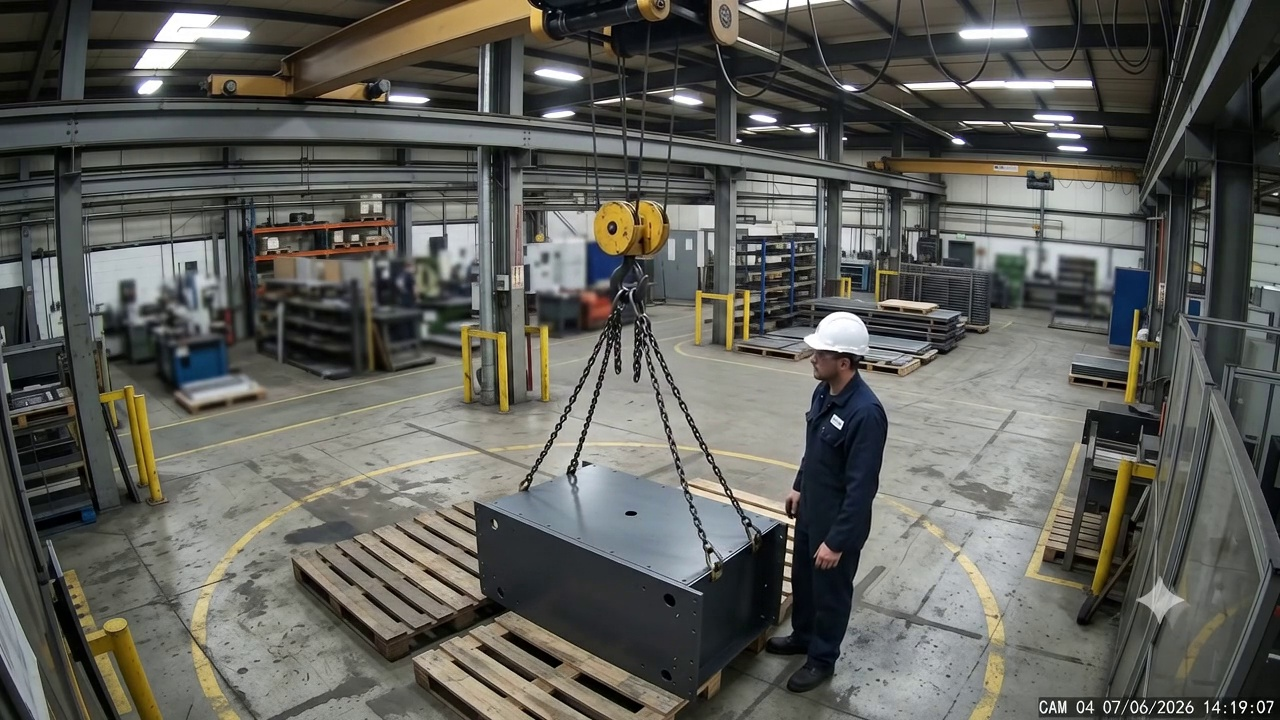person: (765, 312, 889, 694)
